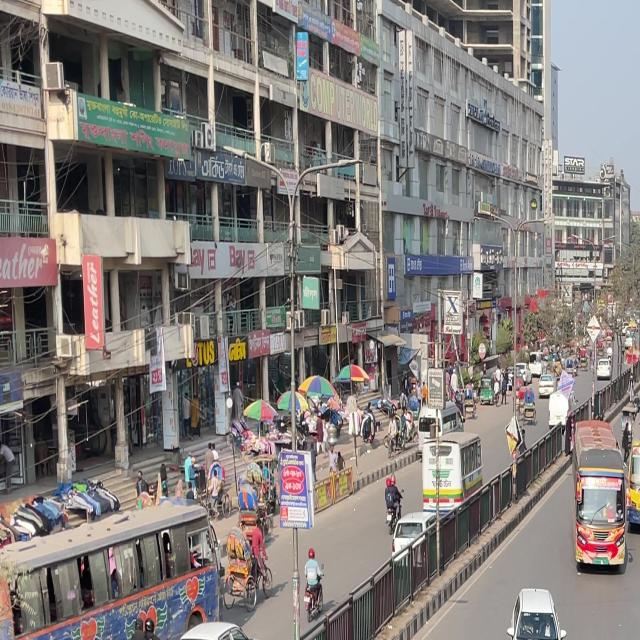bus: (568, 473, 634, 583), (620, 438, 640, 541)
car: (501, 577, 575, 640), (161, 610, 269, 640)
motorbike: (289, 546, 333, 628), (374, 466, 407, 536)
van: (418, 435, 488, 526)
